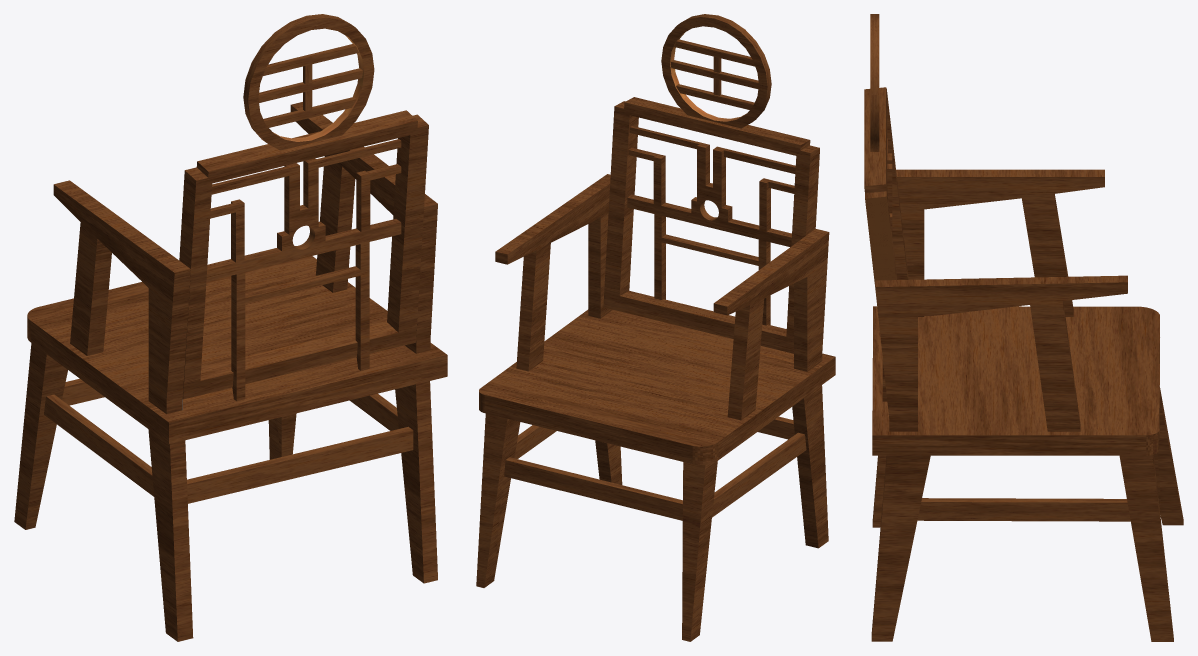
The model's file is chinese_yoke-back_armchair_-_the_squire_armchair.glb.
3 renders of one model, left to right at view 1: azimuth 30°, elevation 25°; view 2: azimuth 150°, elevation 25°; view 3: azimuth 270°, elevation 25°, orthographic. The views are drawn at different scales.
Parts seen in each view (by area): view 1: SketchUp.009_22, SketchUp.007_20, SketchUp.014_27, SketchUp.008_21, SketchUp.003_16, SketchUp.004_17, group_0_2, SketchUp_13, group_4_6, SketchUp.013_26, group_1_3, group_6_9 (+6 smaller); view 2: SketchUp.009_22, SketchUp.007_20, SketchUp.014_27, SketchUp.008_21, SketchUp_13, SketchUp.020_33, SketchUp.003_16, group_3_5, group_4_6, SketchUp.013_26, group_1_3, SketchUp.004_17 (+6 smaller); view 3: SketchUp.009_22, SketchUp.008_21, SketchUp.004_17, SketchUp.020_33, group_2_4, SketchUp.007_20, SketchUp_13, group_4_6, SketchUp.013_26, SketchUp.003_16, SketchUp.014_27.
Boxes of the visible parts, x1,y1,x2,y2 form: SketchUp.009_22: (27, 180, 447, 443); SketchUp.007_20: (179, 110, 428, 399); SketchUp.014_27: (206, 139, 401, 401); SketchUp.008_21: (290, 102, 437, 353); SketchUp.003_16: (148, 429, 193, 641); SketchUp.004_17: (395, 381, 437, 583); group_0_2: (187, 426, 413, 503); SketchUp_13: (14, 343, 67, 529); group_4_6: (243, 14, 374, 150); SketchUp.013_26: (200, 135, 410, 380); group_1_3: (44, 394, 154, 496); group_6_9: (258, 68, 362, 102); SketchUp.009_22: (479, 229, 835, 464); SketchUp.007_20: (603, 97, 819, 353); SketchUp.014_27: (627, 126, 795, 325); SketchUp.008_21: (495, 174, 612, 371); SketchUp_13: (682, 461, 717, 641); SketchUp.020_33: (476, 413, 520, 587); SketchUp.003_16: (792, 385, 828, 548); group_3_5: (504, 457, 682, 520); group_4_6: (661, 14, 771, 128); SketchUp.013_26: (619, 115, 786, 336); group_1_3: (712, 432, 806, 517); SketchUp.004_17: (595, 440, 622, 484); SketchUp.009_22: (872, 169, 1159, 455); SketchUp.008_21: (875, 275, 1127, 431); SketchUp.004_17: (871, 455, 930, 641); SketchUp.020_33: (1119, 455, 1173, 641); group_2_4: (917, 498, 1130, 521); SketchUp.007_20: (864, 87, 908, 286); SketchUp_13: (1154, 386, 1183, 525); group_4_6: (870, 14, 879, 151); SketchUp.013_26: (887, 102, 907, 279); SketchUp.003_16: (872, 455, 886, 527); SketchUp.014_27: (882, 138, 892, 401).
Size of the model in its own units: 0.6533 by 1.33 by 0.6846.
3 materials, 2 textured.
